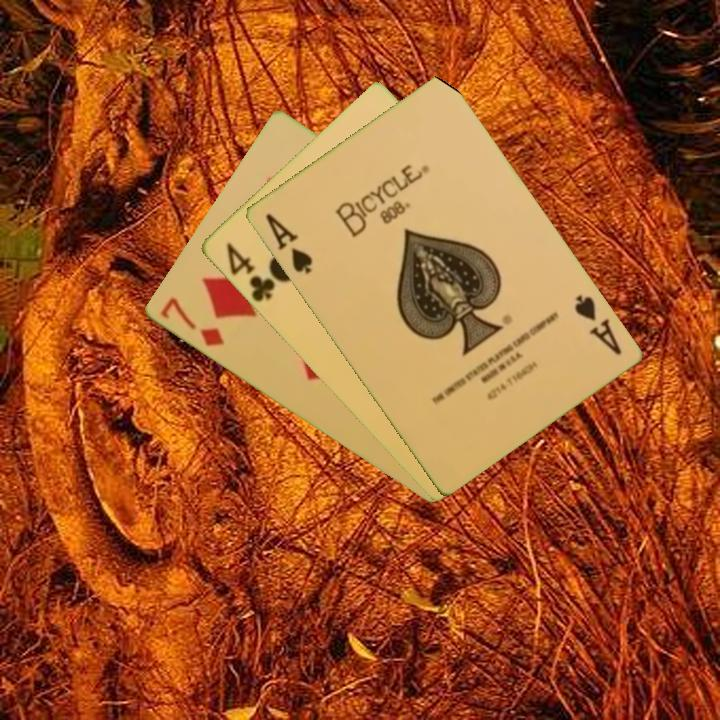4c: (221, 238, 278, 305)
7d: (156, 294, 227, 350)
As: (261, 209, 315, 277), (570, 291, 624, 358)
